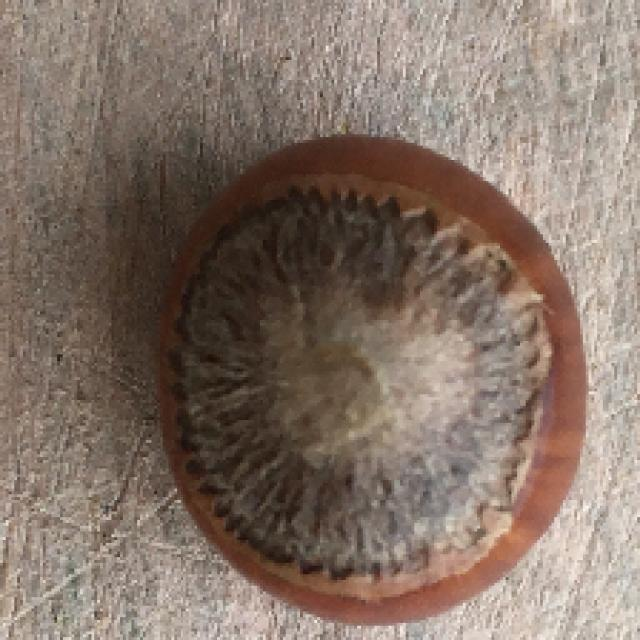DamagedHazelnut: (153, 135, 590, 625)
